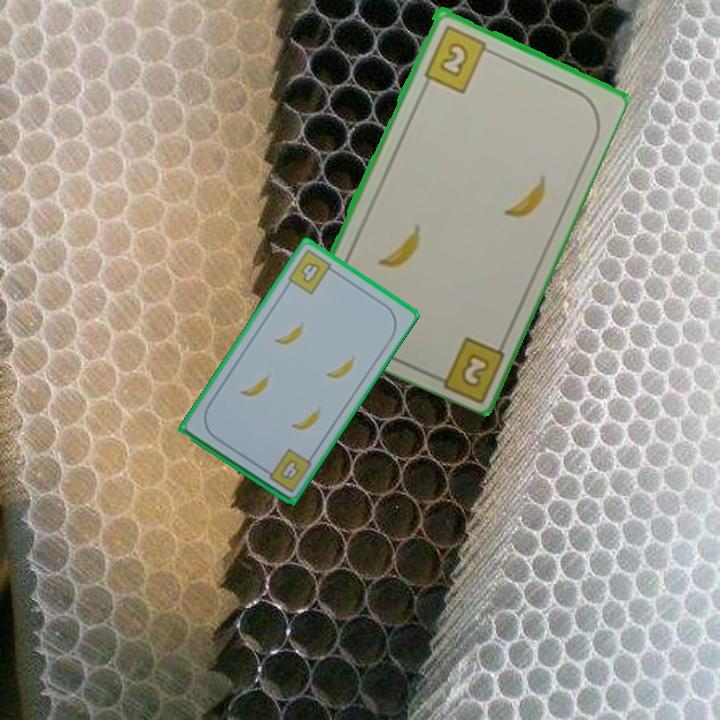2b: (420, 21, 497, 95), (457, 348, 493, 390)
4b: (284, 246, 339, 297), (259, 445, 312, 495)
